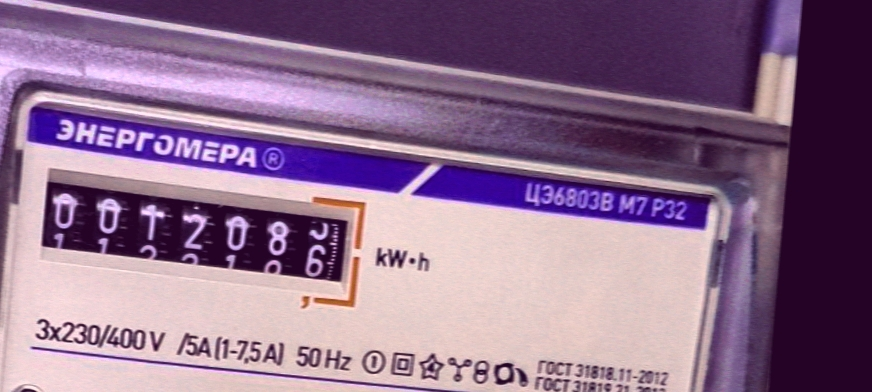0: (91, 194, 123, 238), (49, 188, 76, 232), (221, 213, 248, 254)
1: (136, 201, 161, 243)
2: (178, 211, 207, 252)
6: (299, 242, 325, 279)
8: (263, 217, 288, 259)
screen: (26, 155, 376, 322)
